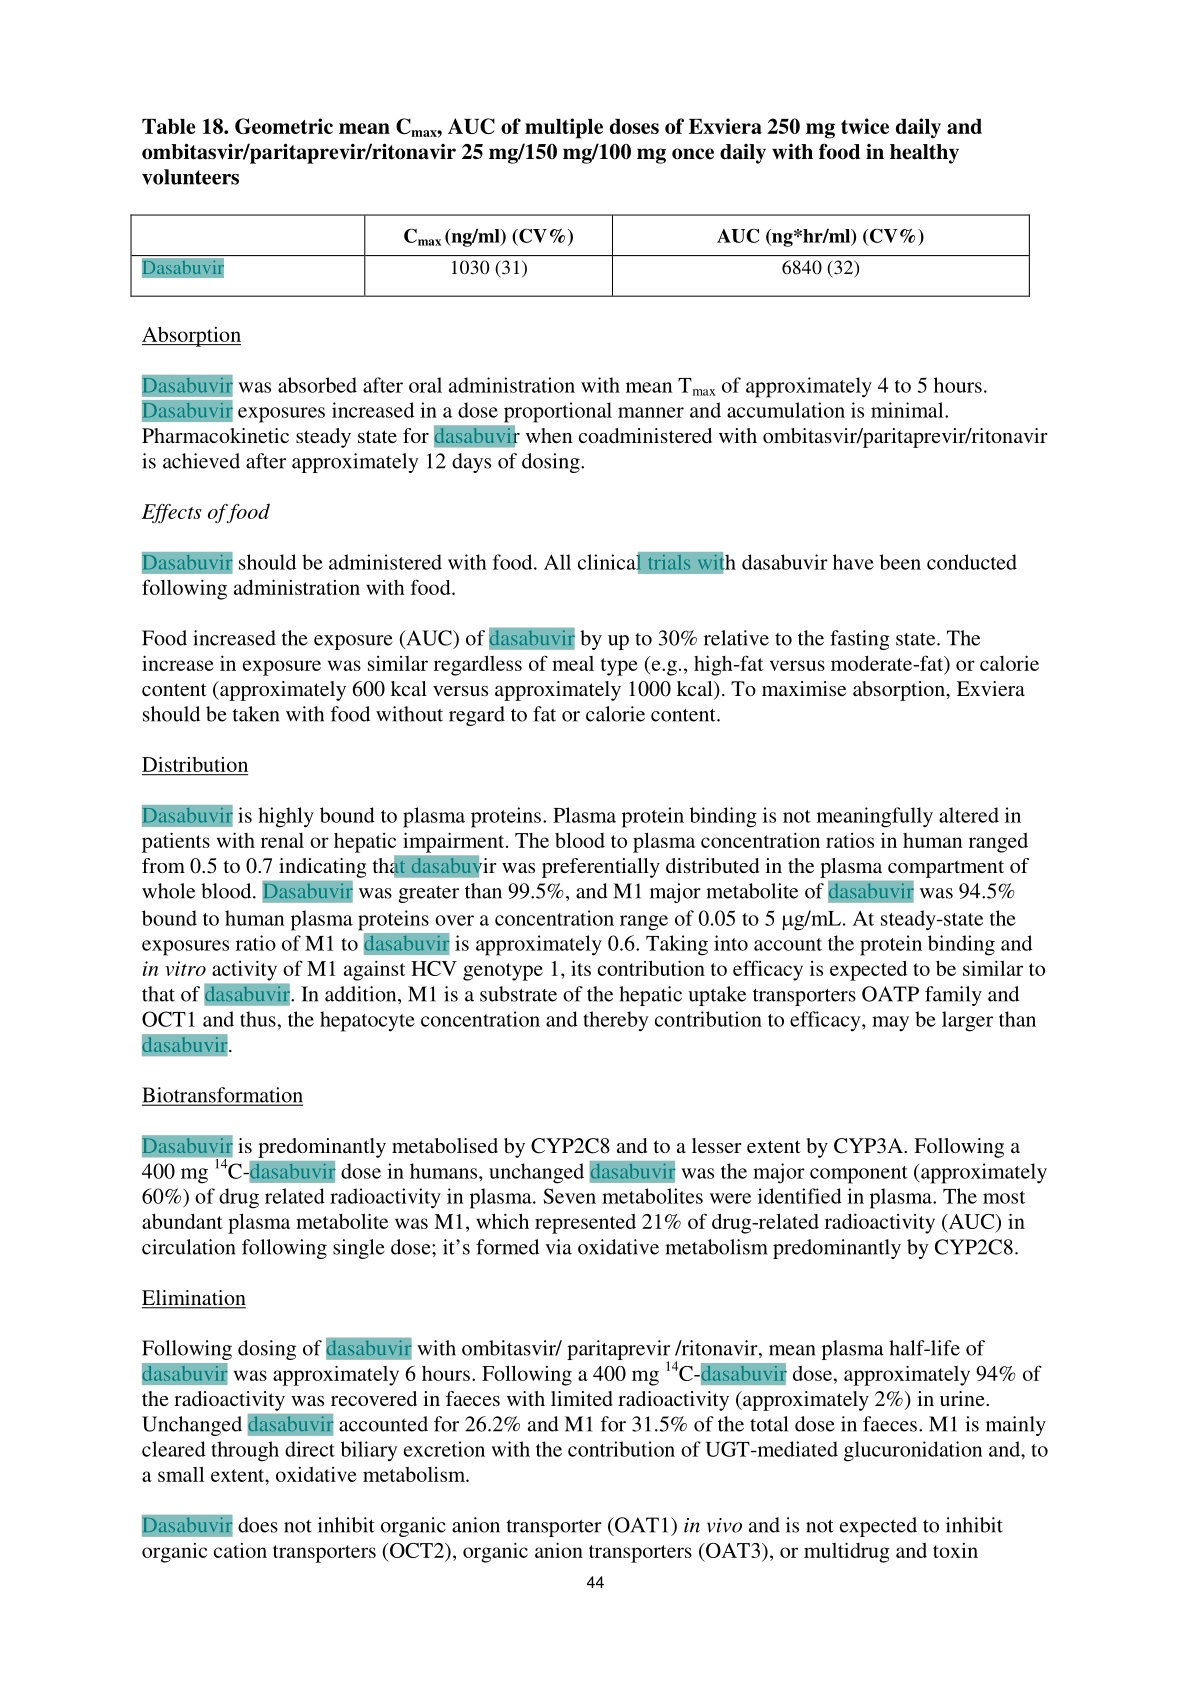full_lined: (128, 213, 1031, 298)
